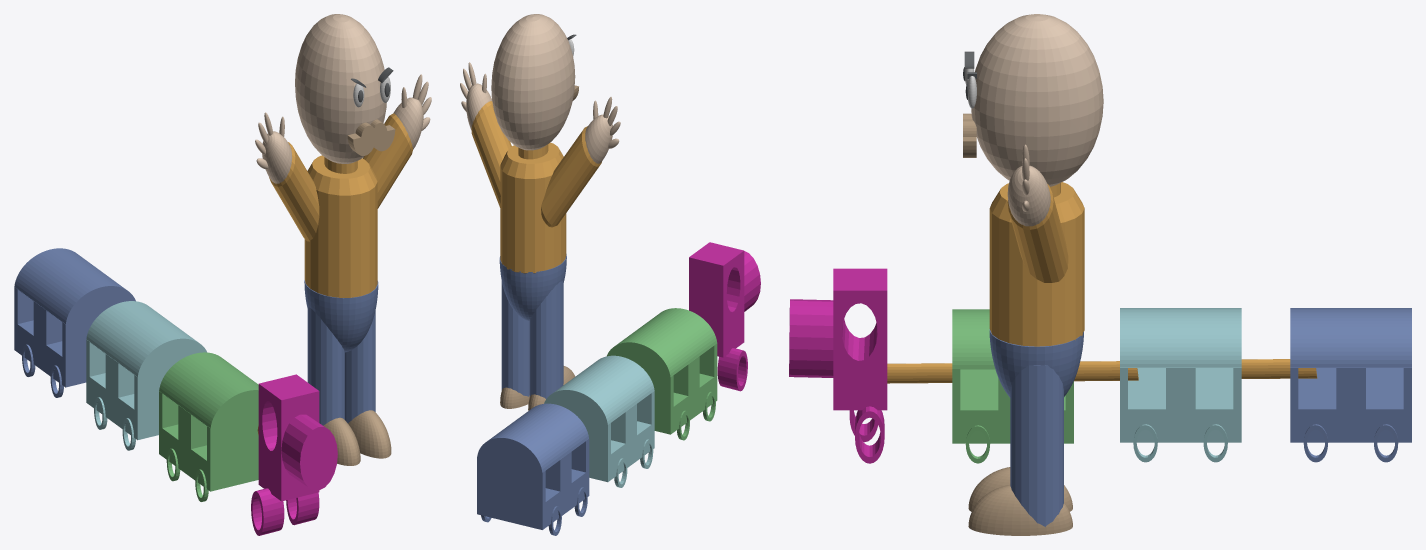
File: Cool Bombul.glb
The picture shows the model from 3 angles, left to right: view 1: azimuth 30°, elevation 25°; view 2: azimuth 150°, elevation 25°; view 3: azimuth 270°, elevation 25°; orthographic projection. The views are drawn at different scales.
Parts seen in each view (by area): view 1: Mesh_Mesh_head_geo.001_lambert2SG.001; view 2: Mesh_Mesh_head_geo.001_lambert2SG.001; view 3: Mesh_Mesh_head_geo.001_lambert2SG.001.
Boxes of the visible parts, left/top/right/bottom form: Mesh_Mesh_head_geo.001_lambert2SG.001: left=14, top=14, right=431, bottom=535; Mesh_Mesh_head_geo.001_lambert2SG.001: left=460, top=14, right=760, bottom=535; Mesh_Mesh_head_geo.001_lambert2SG.001: left=789, top=14, right=1411, bottom=535.
Size of the model in its own units: 84.74 by 135 by 151.
